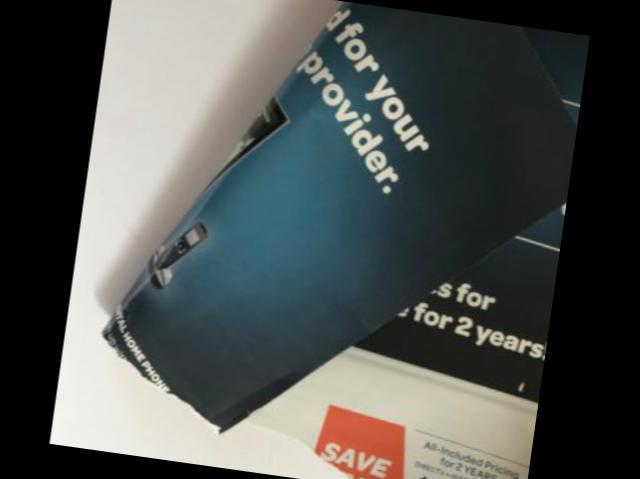cardboard paper: (102, 1, 591, 479)
